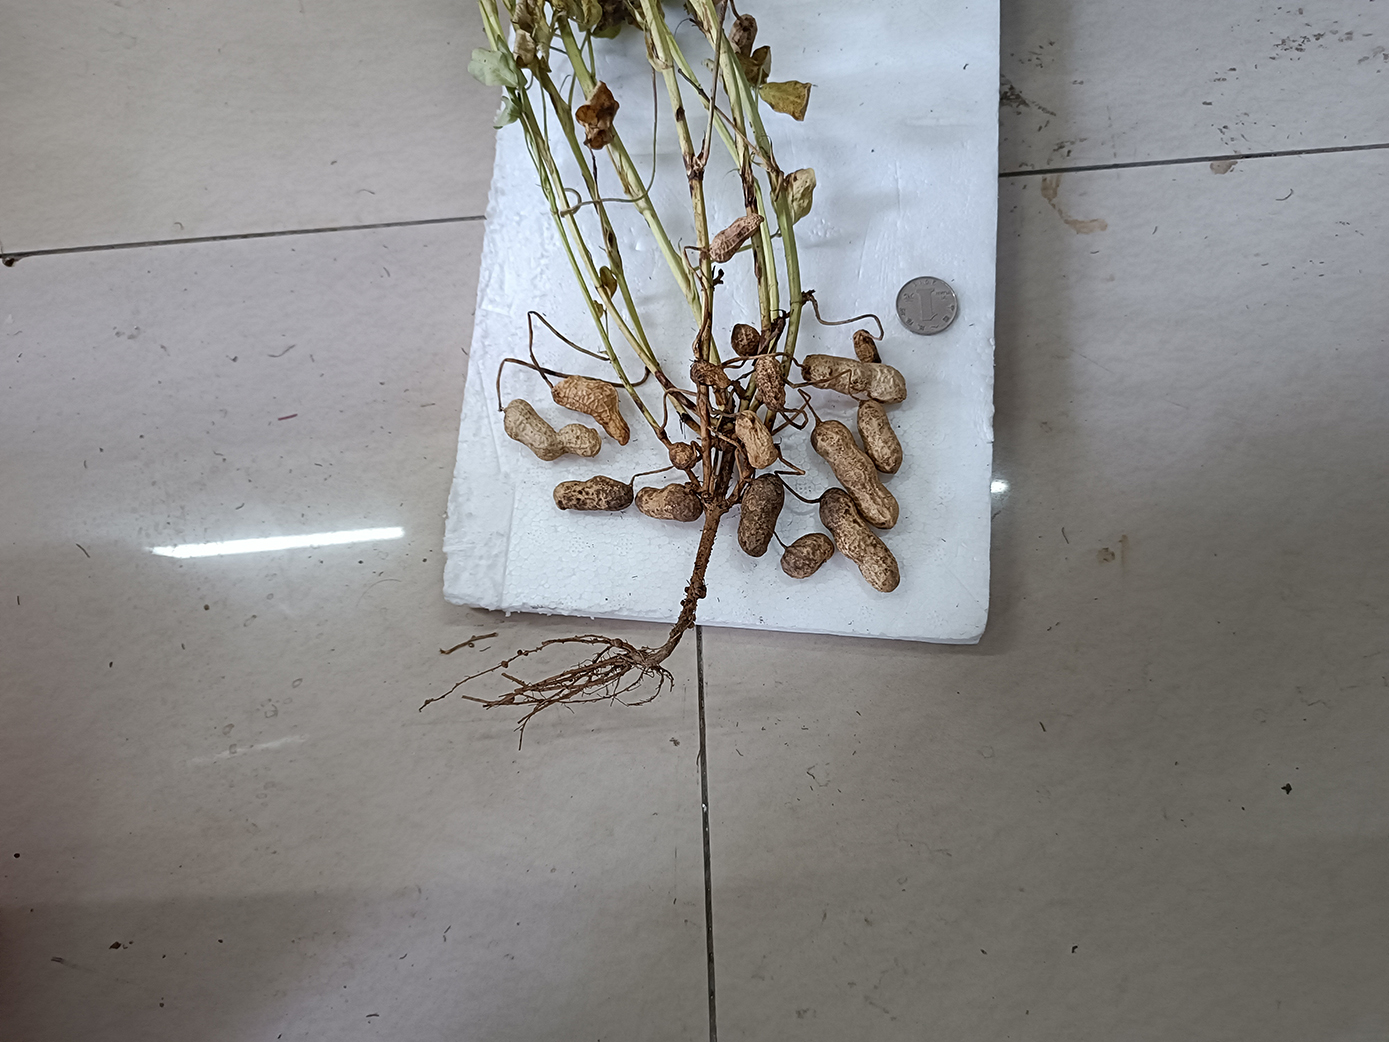h: (812, 420, 899, 530), (820, 488, 901, 594), (503, 400, 601, 460), (549, 375, 630, 445), (803, 354, 906, 405), (857, 400, 904, 475), (706, 215, 767, 265), (736, 412, 779, 468), (636, 486, 703, 523), (782, 533, 835, 579), (755, 356, 786, 412), (730, 322, 764, 359), (691, 361, 729, 392), (854, 329, 884, 363), (669, 440, 699, 470)
l: (738, 473, 785, 558), (553, 475, 630, 512)
